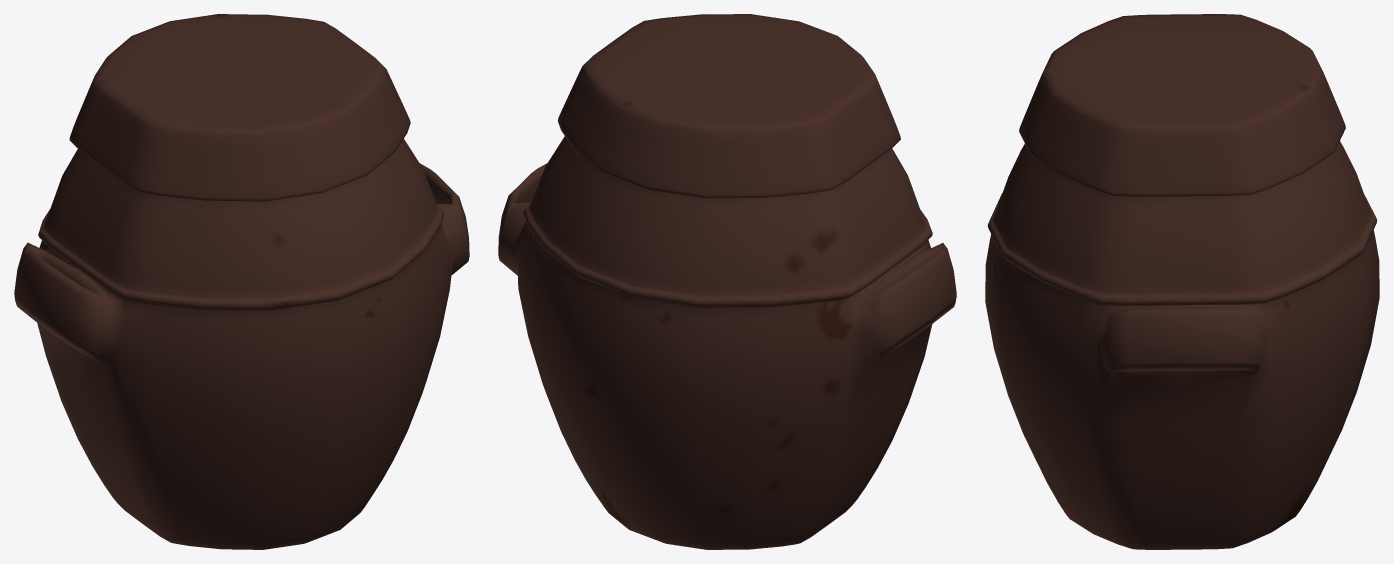
The model's file is Onggi_platform.fbx.
3 views of the same model, side by side, from view 1: azimuth 30°, elevation 25°; view 2: azimuth 150°, elevation 25°; view 3: azimuth 270°, elevation 25° (orthographic).
Visible parts, largest first — view 1: Onggi platform; view 2: Onggi platform; view 3: Onggi platform.
Boxes of the visible parts, x1=… form: Onggi platform: x1=14, y1=14, x2=469, y2=549; Onggi platform: x1=498, y1=14, x2=956, y2=549; Onggi platform: x1=985, y1=14, x2=1379, y2=549.
Bounding box in the file's own units: 73.07 × 74.52 × 61.34.
